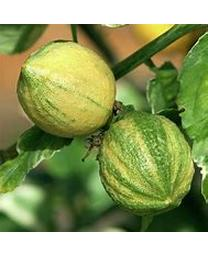lemon: (99, 113, 195, 216), (17, 41, 117, 138)
